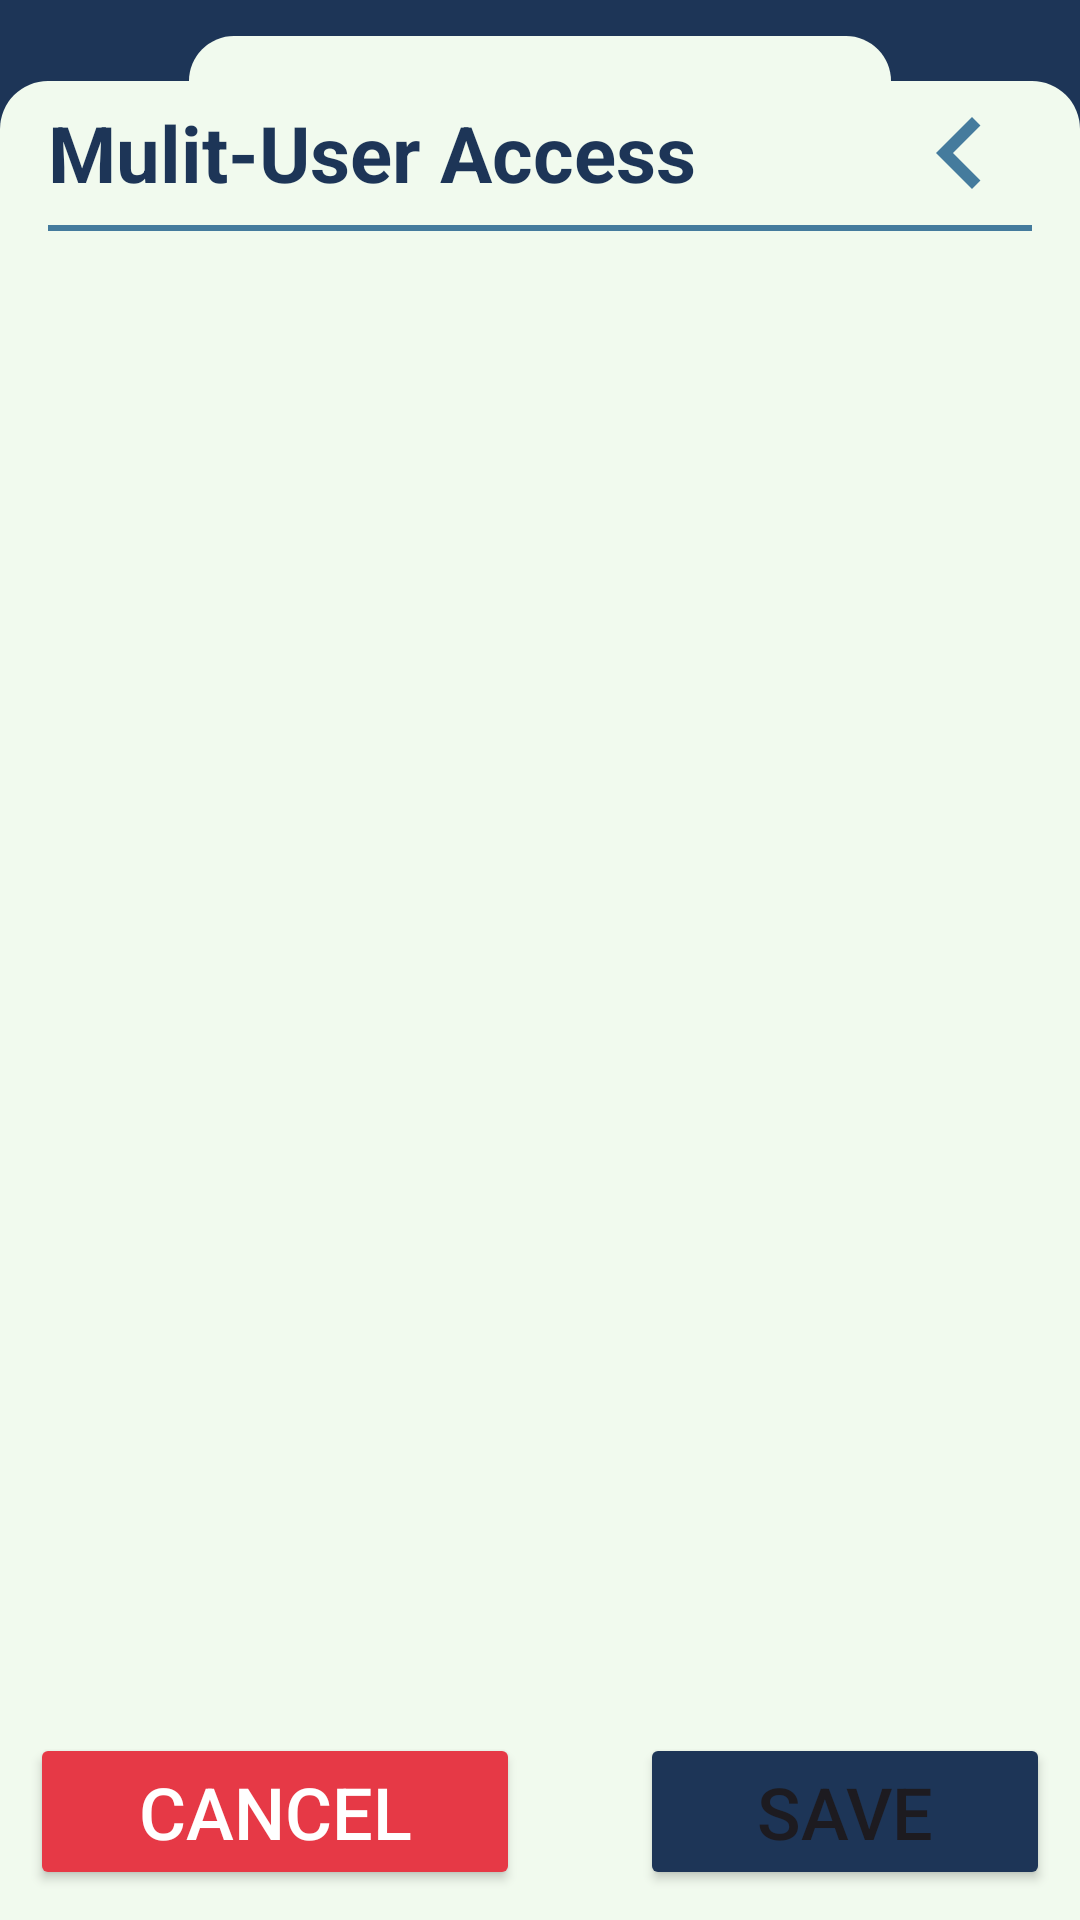

Where icons sit on this 1080w x 1920h app screen, as [x1, y1, x2, y2]:
Chevron Left: [936, 117, 981, 189]
